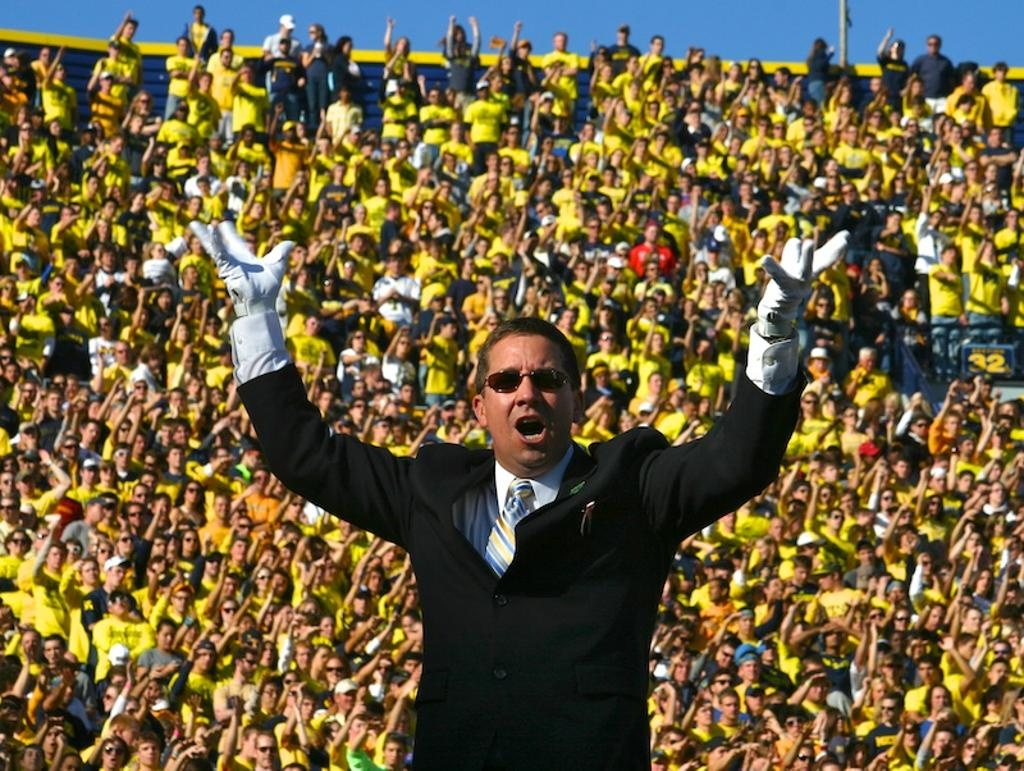human_face: (486, 345, 572, 467), (257, 736, 277, 766), (102, 741, 124, 766), (147, 562, 167, 586), (401, 616, 421, 640), (934, 733, 954, 757), (384, 740, 404, 763), (711, 744, 731, 766), (45, 729, 63, 753), (144, 354, 162, 378), (666, 734, 684, 758), (138, 742, 158, 763), (722, 694, 740, 717), (878, 571, 894, 596), (127, 505, 145, 527), (197, 646, 215, 668), (24, 748, 42, 770), (326, 660, 344, 682), (352, 592, 370, 614), (796, 748, 814, 770), (809, 677, 827, 699), (962, 740, 980, 762), (52, 465, 70, 486), (680, 615, 698, 635), (714, 674, 732, 694), (746, 690, 764, 710), (785, 714, 803, 734), (918, 663, 936, 683), (930, 690, 948, 710), (134, 486, 150, 508), (109, 563, 125, 585), (124, 702, 140, 724), (248, 735, 264, 757), (264, 686, 280, 708), (242, 654, 258, 676), (404, 661, 420, 683), (340, 514, 356, 536), (904, 723, 920, 745), (103, 688, 117, 712), (284, 674, 300, 695), (300, 698, 316, 719), (353, 720, 371, 738), (674, 629, 692, 647), (111, 678, 129, 696), (900, 532, 918, 550), (82, 562, 98, 582), (23, 634, 39, 654), (45, 641, 61, 661), (244, 636, 260, 656), (316, 648, 332, 668), (340, 690, 356, 710), (208, 635, 224, 655), (272, 575, 288, 595), (232, 540, 248, 560), (262, 550, 278, 570), (383, 546, 399, 566), (818, 570, 834, 590), (674, 660, 690, 680), (720, 645, 736, 665), (742, 660, 758, 680), (965, 610, 981, 630), (894, 611, 910, 631), (868, 611, 884, 631), (960, 638, 976, 658), (880, 700, 896, 720), (144, 681, 160, 701), (156, 498, 170, 520), (184, 620, 198, 642), (376, 660, 390, 682), (770, 520, 784, 542), (186, 482, 202, 501), (0, 474, 16, 493), (10, 532, 26, 551), (0, 500, 15, 520), (118, 534, 134, 552), (96, 544, 112, 562), (174, 592, 190, 610), (296, 649, 312, 667), (214, 498, 230, 516), (236, 519, 252, 537), (252, 470, 268, 488), (83, 423, 99, 441), (990, 484, 1006, 502), (966, 532, 982, 550), (716, 567, 732, 585), (884, 660, 902, 676), (908, 641, 924, 659), (788, 626, 804, 644), (154, 538, 168, 558), (160, 626, 174, 646), (60, 756, 80, 770), (393, 714, 407, 734), (698, 704, 712, 724), (958, 596, 972, 616), (994, 644, 1008, 664), (875, 684, 889, 704), (992, 662, 1006, 682), (98, 463, 114, 480), (19, 476, 35, 493), (206, 554, 220, 573), (770, 578, 784, 597), (262, 644, 274, 666), (168, 450, 184, 466), (352, 236, 368, 252), (170, 392, 184, 410), (175, 425, 189, 443), (160, 425, 174, 443), (84, 465, 98, 483), (90, 502, 104, 520), (102, 498, 116, 516), (142, 476, 156, 494), (183, 532, 197, 550), (66, 544, 80, 562), (50, 548, 64, 566), (20, 507, 34, 525), (222, 604, 236, 622), (240, 618, 254, 636), (281, 607, 293, 628), (224, 578, 238, 596), (232, 502, 246, 520), (286, 532, 300, 550), (247, 449, 261, 467), (352, 400, 366, 418), (368, 572, 382, 590), (404, 588, 418, 606), (476, 274, 490, 292), (134, 308, 148, 326), (20, 430, 38, 444), (118, 422, 132, 440), (946, 416, 960, 434), (652, 334, 666, 352), (686, 402, 700, 420), (698, 342, 712, 360), (790, 505, 804, 523), (977, 572, 991, 590), (1005, 592, 1019, 610), (756, 540, 770, 558), (958, 474, 972, 492), (322, 618, 334, 638), (60, 304, 72, 324), (1003, 404, 1019, 419), (840, 186, 856, 201), (740, 614, 752, 634), (831, 712, 843, 732), (986, 690, 998, 710), (2, 458, 16, 475), (320, 393, 334, 410), (402, 385, 416, 402), (116, 345, 130, 362), (20, 383, 34, 400), (992, 428, 1006, 445), (797, 484, 811, 501), (708, 583, 722, 600), (826, 628, 840, 645), (891, 635, 905, 652), (134, 383, 148, 399), (23, 458, 37, 474), (113, 598, 127, 614), (290, 500, 304, 516), (210, 389, 224, 405), (228, 380, 242, 396), (375, 420, 389, 436), (307, 317, 321, 333), (353, 332, 367, 348), (396, 337, 410, 353), (493, 292, 507, 308), (293, 246, 307, 262), (110, 138, 124, 154), (160, 184, 174, 200), (191, 237, 205, 253), (152, 244, 166, 260), (96, 222, 110, 238), (64, 440, 78, 456), (116, 450, 130, 466), (861, 353, 875, 369), (804, 396, 818, 412), (897, 462, 911, 478), (602, 333, 616, 349), (594, 368, 608, 384), (651, 376, 665, 392), (621, 416, 635, 432), (640, 411, 654, 427), (964, 74, 978, 90), (966, 162, 980, 178), (820, 488, 834, 504), (842, 495, 856, 511), (877, 460, 891, 476), (722, 510, 736, 526), (858, 548, 872, 564), (650, 757, 666, 771), (920, 557, 934, 573), (890, 588, 904, 604), (929, 609, 943, 625), (932, 477, 946, 493), (1016, 694, 1024, 722), (144, 456, 156, 474), (305, 605, 317, 623), (258, 571, 270, 589), (325, 562, 337, 580), (216, 450, 228, 468), (392, 425, 404, 443), (186, 266, 198, 284), (99, 318, 111, 336), (134, 436, 146, 454), (598, 406, 610, 424), (376, 382, 388, 400), (806, 540, 818, 558), (796, 564, 808, 582), (852, 747, 864, 765), (866, 404, 878, 422), (352, 380, 366, 395), (444, 321, 458, 336), (101, 249, 115, 264), (48, 395, 62, 410), (999, 419, 1013, 434), (961, 439, 975, 454), (898, 510, 912, 525), (190, 378, 202, 395), (988, 463, 1000, 480), (194, 728, 208, 742), (448, 427, 462, 441), (486, 318, 500, 332), (88, 404, 102, 418), (816, 299, 830, 313), (814, 356, 828, 370), (358, 294, 372, 308), (323, 209, 337, 223), (376, 181, 390, 195), (696, 140, 710, 154), (824, 466, 838, 480), (825, 446, 839, 460), (864, 452, 878, 466), (762, 644, 776, 658), (456, 402, 468, 418), (126, 260, 138, 276), (158, 293, 170, 309), (177, 324, 189, 340), (66, 380, 78, 396), (954, 183, 966, 199), (1007, 209, 1019, 225), (904, 291, 916, 307), (730, 312, 742, 328), (980, 379, 992, 395), (916, 420, 928, 436), (576, 263, 588, 279), (564, 310, 576, 326), (646, 301, 658, 317), (269, 220, 281, 236), (426, 213, 438, 229), (628, 56, 640, 72), (544, 156, 556, 172), (588, 220, 600, 236), (694, 264, 706, 280), (990, 128, 1002, 144), (938, 150, 950, 166), (894, 172, 906, 188), (994, 515, 1006, 531), (882, 492, 894, 508), (830, 512, 842, 528), (936, 570, 948, 586), (66, 259, 78, 275), (551, 62, 563, 78), (594, 48, 606, 64), (325, 226, 337, 242), (600, 279, 612, 295), (526, 289, 538, 305), (443, 404, 455, 419), (704, 287, 716, 302), (647, 225, 659, 240), (740, 184, 752, 199), (755, 232, 767, 247), (40, 49, 52, 63), (390, 258, 402, 272), (298, 270, 310, 284), (176, 103, 188, 117), (21, 125, 33, 139), (132, 116, 144, 130), (82, 130, 96, 142), (104, 202, 116, 216), (134, 195, 146, 209), (52, 278, 64, 292), (2, 283, 14, 297), (20, 297, 32, 311), (206, 318, 218, 332), (186, 356, 198, 370), (0, 352, 12, 366), (53, 379, 65, 393), (944, 249, 956, 263), (776, 227, 788, 241), (928, 498, 940, 512), (570, 240, 582, 254), (600, 304, 612, 318), (646, 264, 658, 278), (608, 266, 622, 278), (251, 204, 263, 218), (261, 170, 273, 184), (423, 203, 435, 217), (366, 134, 378, 148), (508, 128, 520, 142), (500, 158, 512, 172), (536, 204, 548, 218), (538, 180, 550, 194), (586, 153, 598, 167), (598, 199, 610, 213), (780, 147, 792, 161), (722, 200, 734, 214), (770, 198, 784, 210), (926, 38, 938, 52), (862, 137, 874, 151), (986, 164, 998, 178), (867, 180, 879, 194), (813, 458, 825, 472), (489, 175, 501, 189), (56, 64, 66, 80), (125, 22, 135, 38), (241, 66, 251, 82), (30, 209, 40, 225), (62, 208, 72, 224), (190, 198, 200, 214), (7, 365, 17, 381), (572, 421, 582, 437), (760, 95, 770, 111), (422, 168, 432, 184), (488, 154, 498, 170), (840, 86, 850, 102), (893, 138, 903, 154), (344, 261, 356, 274), (970, 208, 982, 221), (983, 242, 995, 255), (890, 42, 902, 55), (652, 38, 662, 53), (430, 247, 442, 259), (50, 123, 62, 135), (198, 158, 210, 170), (16, 264, 28, 276), (334, 166, 346, 178), (408, 125, 420, 137), (396, 39, 408, 51), (554, 115, 566, 127), (488, 197, 500, 209), (910, 82, 922, 94), (870, 79, 882, 91), (870, 112, 882, 124), (178, 38, 188, 52), (342, 421, 352, 435), (492, 258, 502, 272), (478, 240, 488, 254), (465, 259, 475, 273), (140, 94, 150, 108), (33, 112, 43, 126), (197, 180, 207, 194), (88, 177, 98, 191), (20, 156, 30, 170), (220, 350, 230, 364), (870, 261, 880, 275), (846, 410, 856, 424), (654, 293, 664, 307), (774, 70, 784, 84), (294, 199, 304, 213), (356, 207, 366, 221), (390, 204, 400, 218), (440, 182, 450, 196), (446, 155, 456, 169), (453, 123, 463, 137), (630, 82, 640, 96), (584, 125, 594, 139), (731, 138, 741, 152), (680, 177, 690, 191), (686, 162, 696, 176), (668, 197, 678, 211), (775, 242, 785, 256), (914, 102, 924, 116), (952, 128, 962, 142), (962, 122, 972, 136), (936, 116, 946, 130), (805, 102, 815, 116), (847, 127, 857, 141), (828, 171, 838, 185), (1008, 544, 1018, 558), (1008, 636, 1018, 650), (754, 268, 764, 282), (111, 188, 121, 201), (630, 208, 640, 221), (540, 292, 550, 305), (618, 249, 628, 262), (676, 384, 686, 397), (700, 399, 710, 412), (102, 76, 112, 88), (200, 77, 210, 89), (222, 32, 232, 44), (392, 242, 404, 252), (324, 280, 334, 292), (244, 130, 254, 142), (296, 124, 306, 136), (155, 161, 165, 173), (178, 144, 188, 156), (987, 185, 997, 197), (715, 284, 725, 296), (684, 301, 694, 313), (239, 163, 249, 175), (296, 180, 306, 192), (400, 142, 410, 154), (382, 147, 392, 159), (320, 140, 330, 152), (454, 29, 464, 41), (430, 90, 440, 102), (478, 86, 488, 98), (492, 76, 502, 88), (603, 67, 613, 79), (604, 98, 614, 110), (543, 98, 553, 110), (543, 138, 553, 150), (475, 210, 485, 222), (612, 151, 622, 163), (604, 170, 614, 182), (738, 112, 748, 124), (774, 124, 784, 136), (664, 94, 674, 106), (688, 109, 698, 121), (657, 136, 667, 148), (636, 142, 646, 154), (644, 174, 654, 186), (708, 213, 718, 225), (708, 246, 718, 258), (997, 66, 1007, 78), (962, 100, 972, 112), (908, 120, 918, 132), (890, 112, 900, 124), (804, 119, 814, 131), (827, 161, 837, 173), (911, 199, 921, 211), (760, 120, 768, 134), (693, 187, 701, 201), (816, 130, 824, 144), (805, 197, 815, 208), (433, 298, 443, 308), (282, 22, 292, 32), (286, 126, 296, 136), (155, 148, 165, 158), (60, 164, 70, 174), (730, 66, 740, 76), (340, 88, 350, 98), (503, 58, 513, 68), (588, 176, 598, 186), (690, 68, 700, 78), (763, 150, 773, 160), (945, 120, 955, 130), (890, 216, 900, 226), (932, 214, 942, 224), (222, 52, 230, 64), (310, 27, 318, 39), (663, 61, 671, 73), (750, 62, 758, 74), (342, 41, 350, 53), (556, 37, 564, 49), (616, 101, 624, 113), (564, 171, 572, 183), (650, 104, 658, 116), (719, 125, 727, 137), (738, 158, 746, 170), (521, 43, 529, 54), (622, 111, 630, 122), (109, 46, 119, 54), (194, 9, 202, 19), (6, 54, 14, 64), (694, 52, 702, 62), (352, 130, 360, 140), (401, 85, 409, 95), (618, 28, 626, 38), (280, 42, 288, 50)
